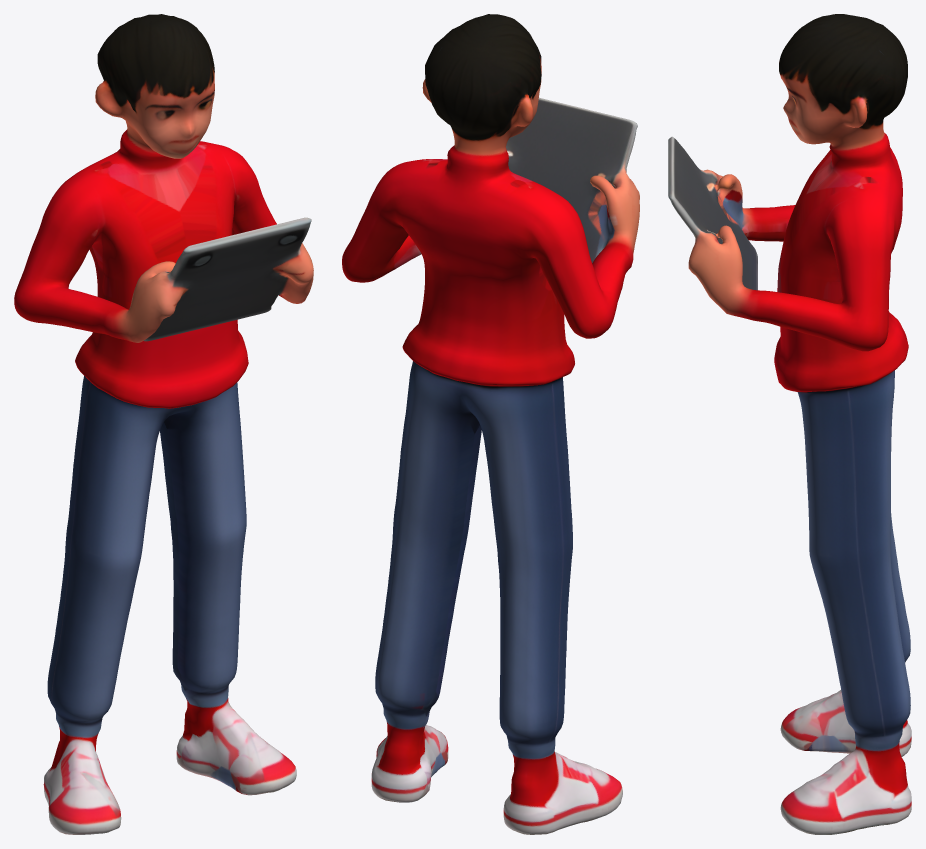
Rendered from signup.glb.
3 renders of one model, left to right at view 1: azimuth 30°, elevation 25°; view 2: azimuth 150°, elevation 25°; view 3: azimuth 270°, elevation 25°, orthographic.
Visible parts, largest first — view 1: model; view 2: model; view 3: model.
Boxes of the visible parts, x1,y1,x2,y2 form: model: (14,14,313,834); model: (342,14,639,834); model: (668,14,911,834).
Size of the model in its own units: 0.6816 by 1.9 by 0.55.
1 material, 1 textured.
